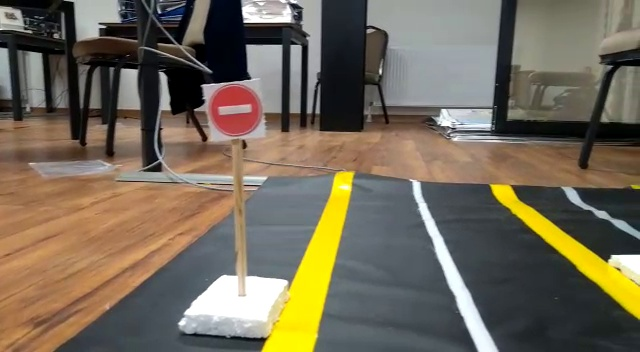girisi_olmayan_yol: (208, 77, 263, 138)
